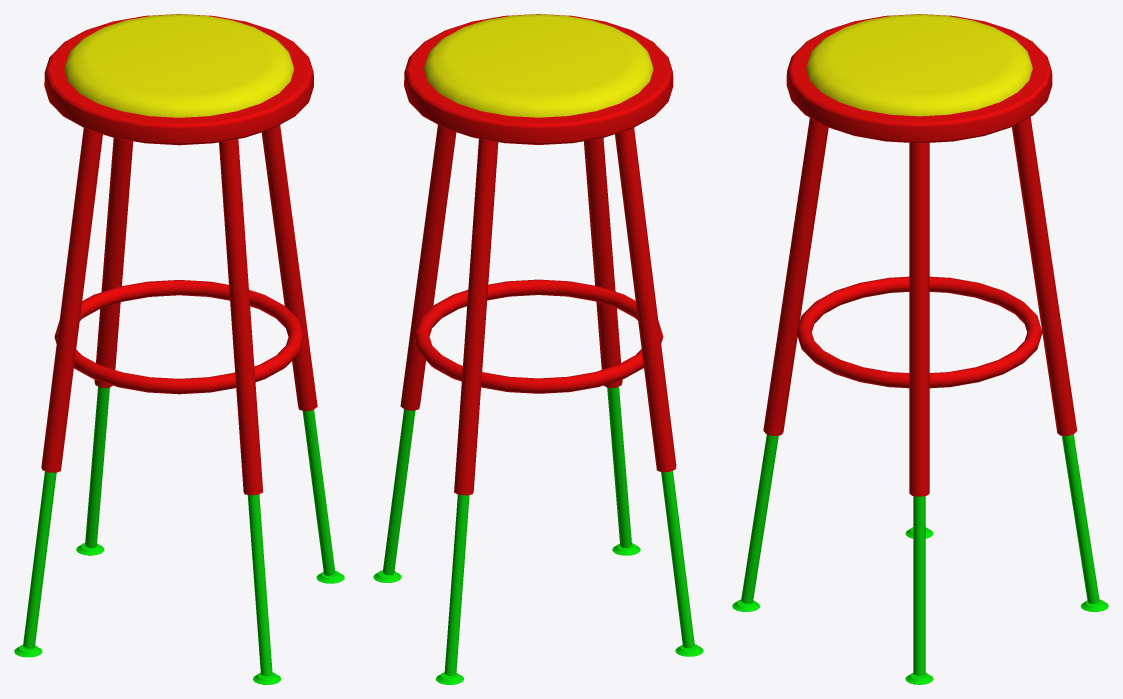
Rendered from stool_mesh.fbx.
3 views of the same model, side by side, from view 1: azimuth 30°, elevation 25°; view 2: azimuth 150°, elevation 25°; view 3: azimuth 270°, elevation 25° (orthographic).
Visible parts, largest first — view 1: stool_mesh; view 2: stool_mesh; view 3: stool_mesh.
Part boxes in pixels (bbox=[...]): stool_mesh: bbox=[14, 14, 344, 684]; stool_mesh: bbox=[373, 14, 703, 684]; stool_mesh: bbox=[732, 14, 1108, 684].
Bounding box in the file's own units: 38.3 × 62.57 × 38.75.
